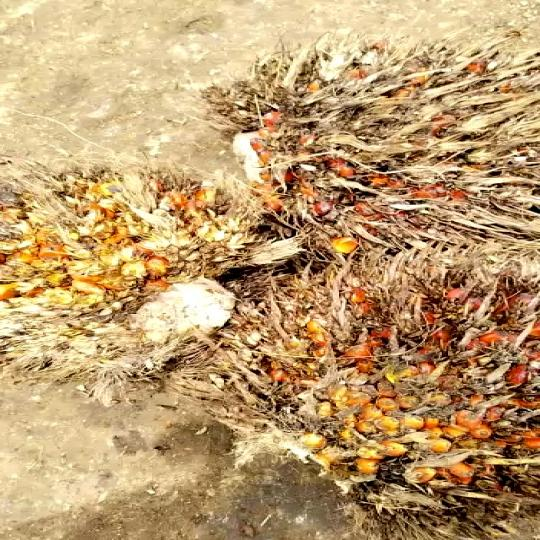terlalu masak: (191, 260, 540, 492), (226, 60, 540, 242), (0, 177, 275, 372)
